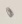microplastic: (6, 7, 14, 18)
